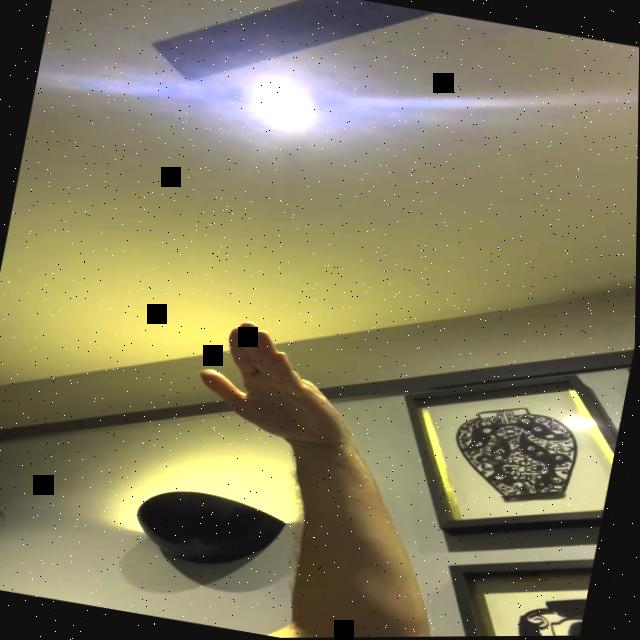Paper: (184, 311, 370, 456)
